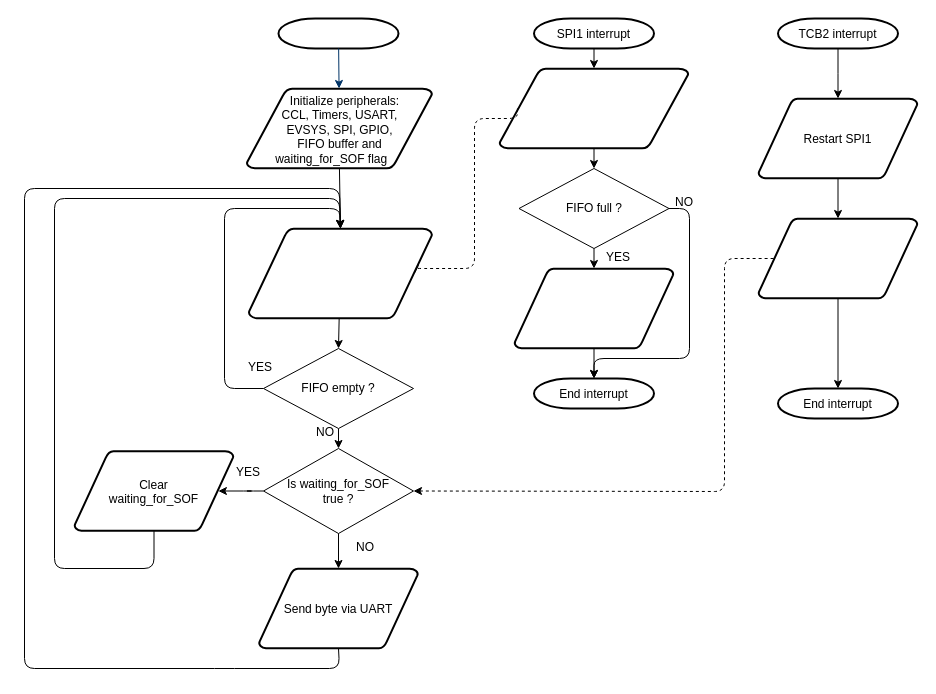
Image size: 936x694. Some labels were removed from this diagram. Here are the shapes that lost their labels. From the top down, the centre of each, then its label:
At (338,33): "Main start".
At (593,108): "Put byte in MCC generated FIFO (spi0_descriptor.buffer)".
At (340,273): "Get byte by byte from FIFO (spi0_descriptor.buffer)".
At (837,258): "Set waiting_for_SOF".
At (593,308): "Signal data loss (to be added by user)".
